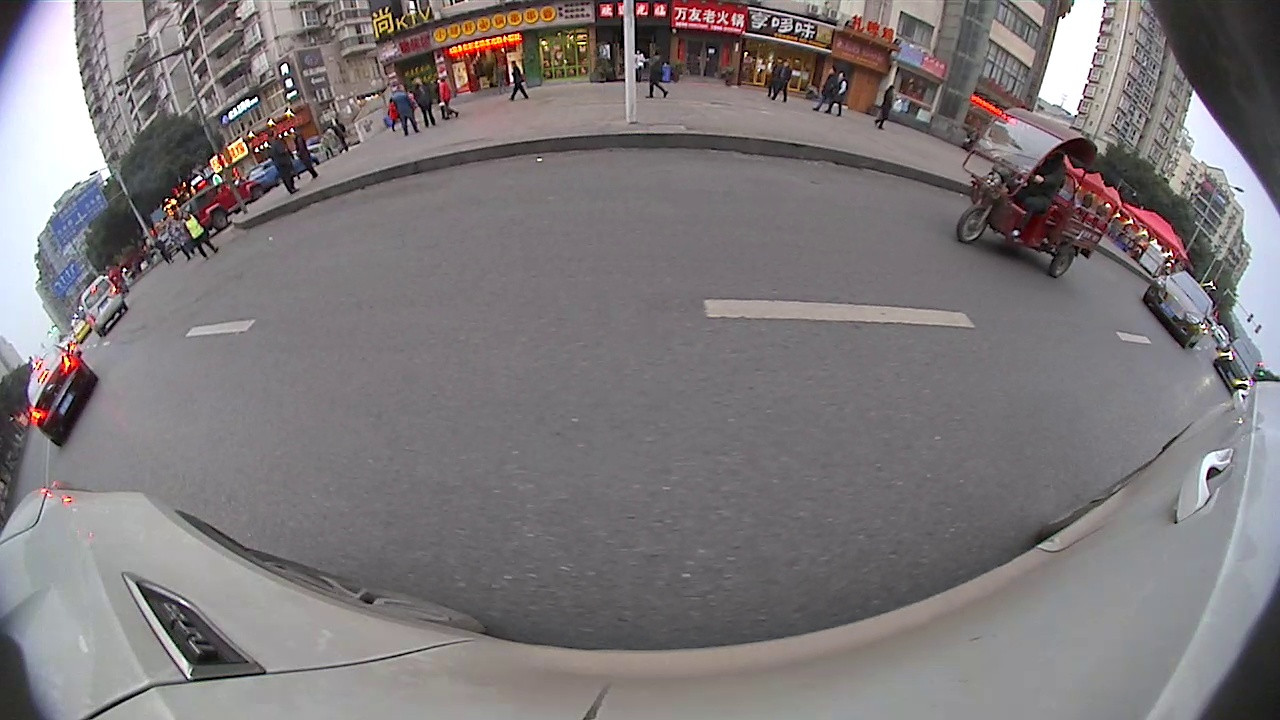car: (22, 348, 100, 453), (1138, 267, 1219, 349), (73, 275, 130, 338), (1211, 334, 1262, 398)
front: (952, 202, 992, 246)
rear: (1048, 244, 1078, 282)
rider: (951, 106, 1120, 278)
